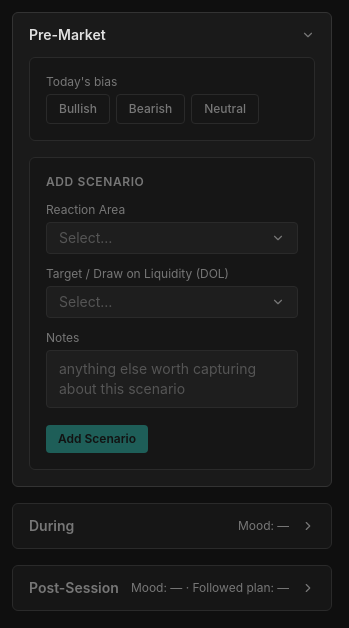
Test: DayWorkspace — manual section switching › closes the open section when its own header is clicked again
Check: the text "Reaction Area" is shown, box [46, 202, 125, 217]
Click the button "Pre-Market" at [67, 34], box [13, 13, 331, 57]
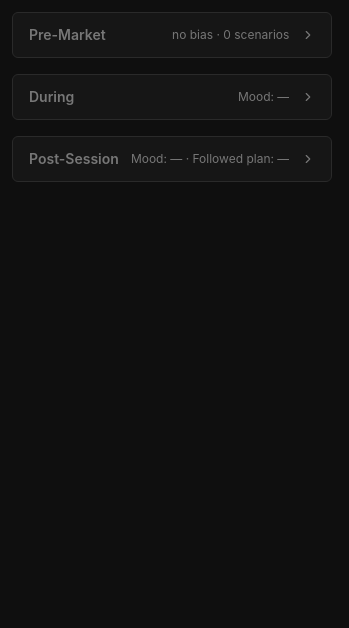
Check: the text "Reaction Area" is gone
